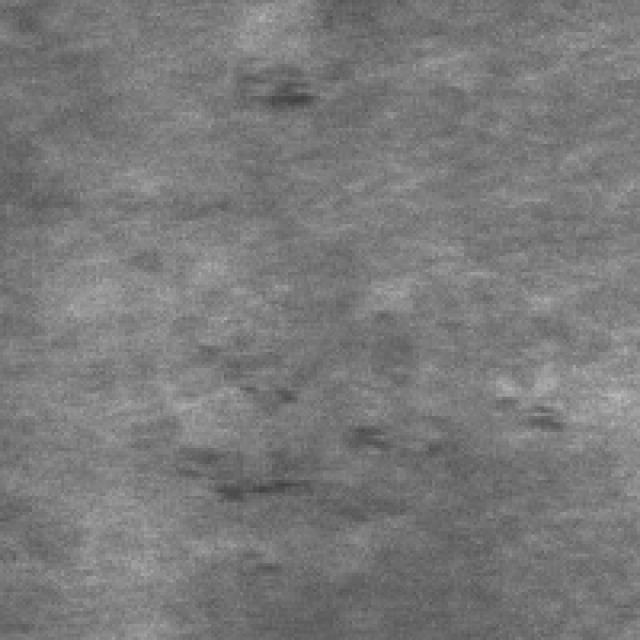rolled-in_scale: (163, 333, 547, 512), (220, 48, 362, 112)
